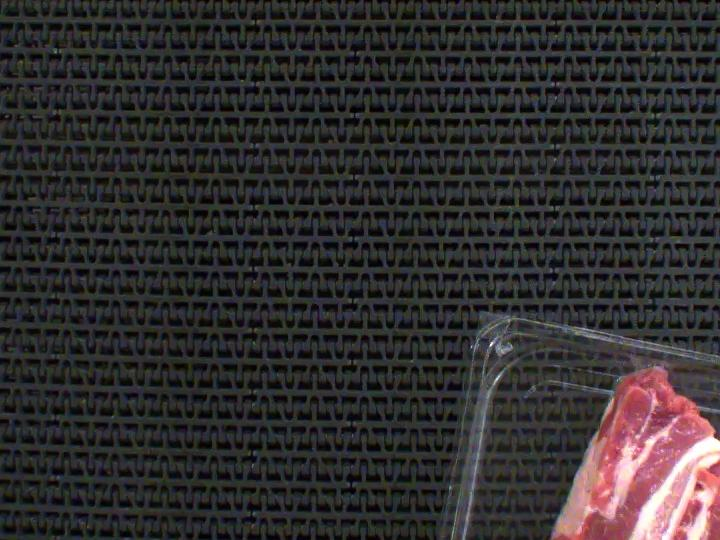packaging-error: (612, 344, 686, 397)
